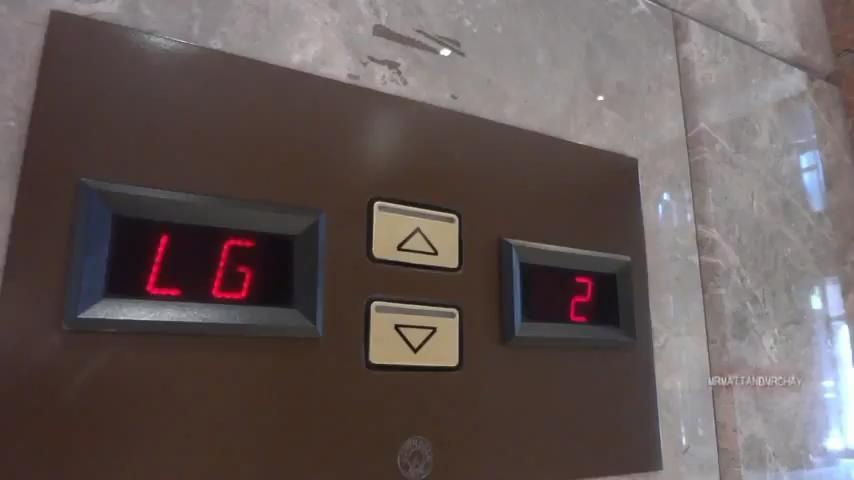down: (363, 293, 467, 372)
keyhole: (394, 429, 439, 480)
led: (97, 209, 306, 317), (517, 256, 625, 329)
up: (367, 193, 467, 275)
